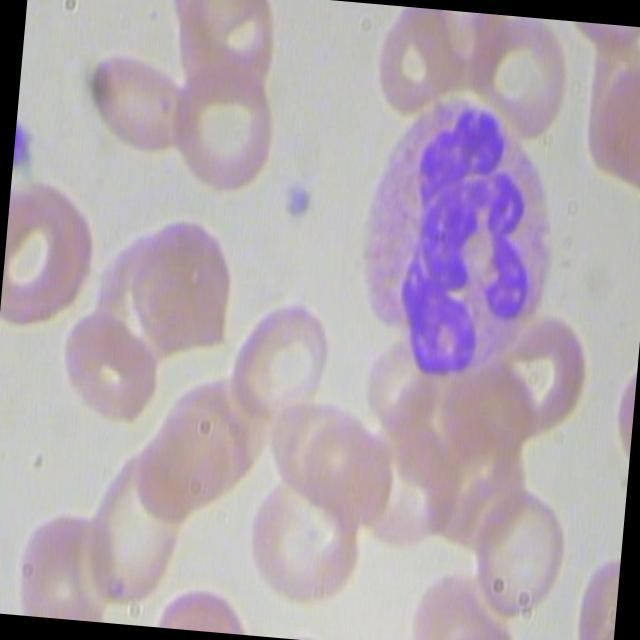Platelets: (279, 176, 317, 220)
RBC: (72, 432, 210, 613), (118, 202, 245, 366), (244, 463, 379, 616), (164, 59, 288, 200), (220, 288, 344, 429), (460, 480, 584, 620), (0, 171, 103, 336), (465, 13, 583, 148), (75, 30, 196, 160), (54, 295, 165, 422)
WBC: (332, 85, 588, 398)
